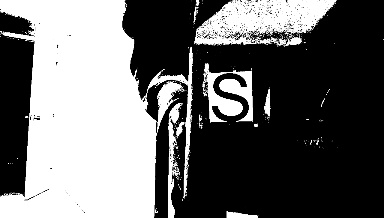S: (208, 71, 254, 121)
